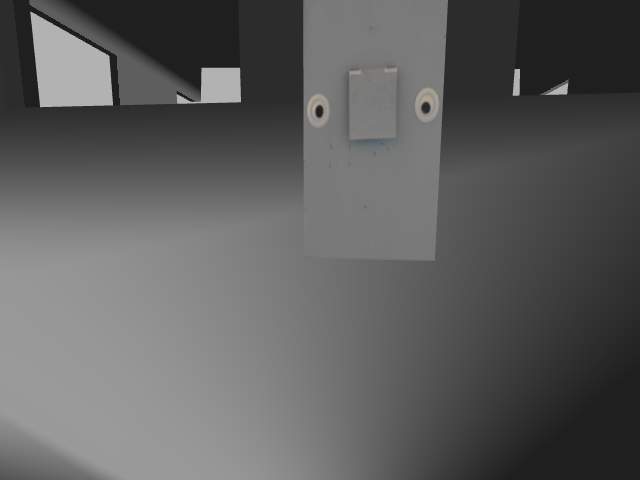facade: (306, 63, 439, 143)
